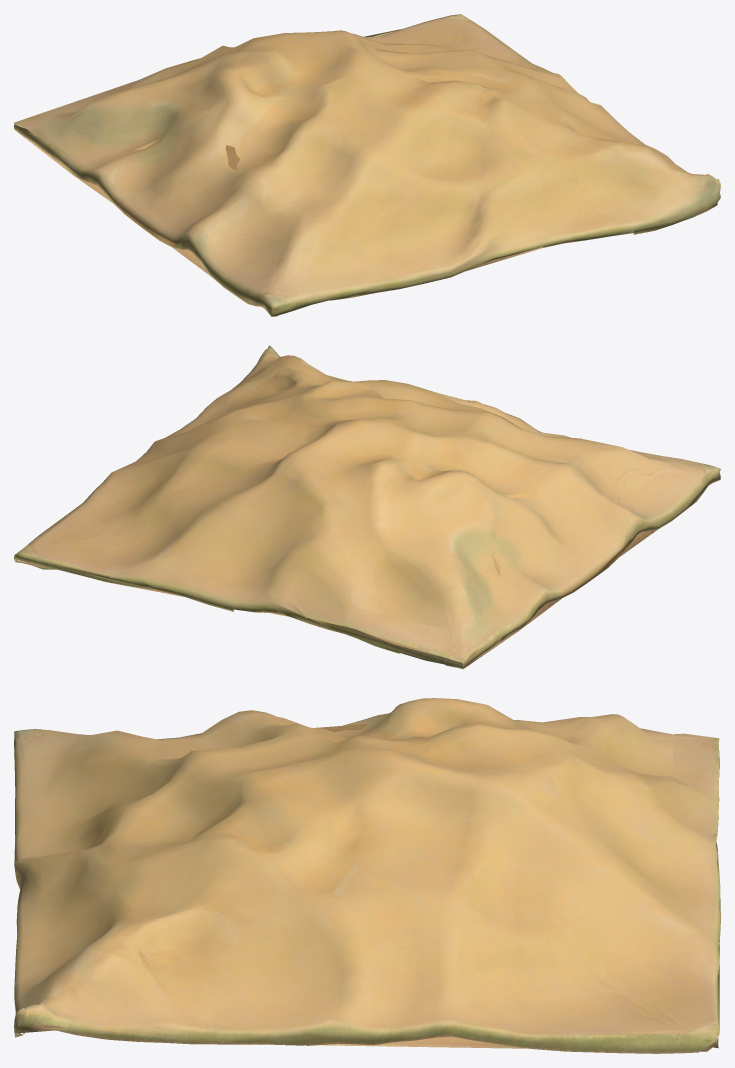
File: Sand Ohneschimmel v17.glb
3 views of the same model, one above another, from view 1: azimuth 30°, elevation 25°; view 2: azimuth 150°, elevation 25°; view 3: azimuth 270°, elevation 25° (orthographic). The views are drawn at different scales.
Parts seen in each view (by area): view 1: Mesh0; view 2: Mesh0; view 3: Mesh0.
Boxes of the visible parts, x1,y1,x2,y2 form: Mesh0: [14, 14, 720, 316]; Mesh0: [14, 345, 720, 669]; Mesh0: [14, 698, 720, 1053].
Bounding box in the file's own units: 2 × 0.4713 × 2.
Materials: 1 (1 with a texture image).
